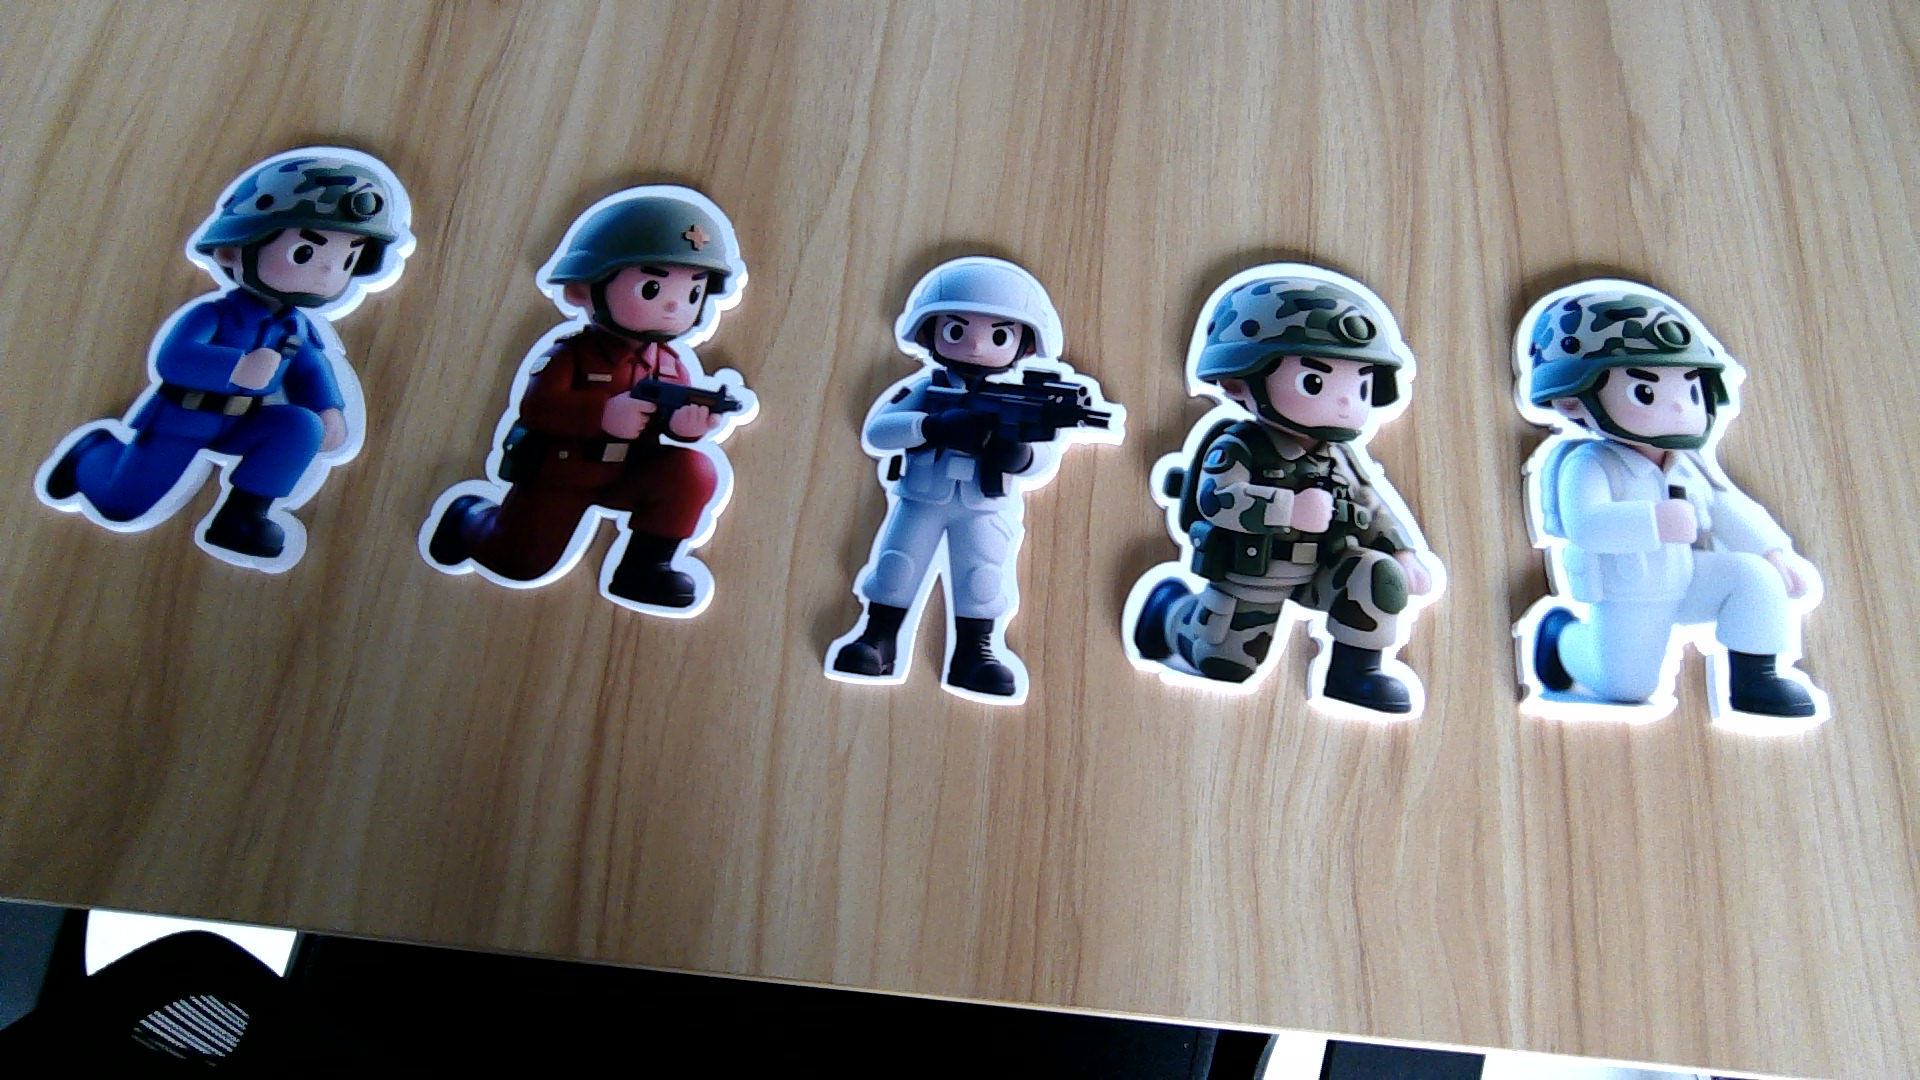人质: (1509, 444, 1853, 738), (818, 375, 1106, 708)
友军: (1116, 423, 1448, 723)
敌人1: (415, 318, 756, 624)
敌人2: (29, 306, 365, 579)
